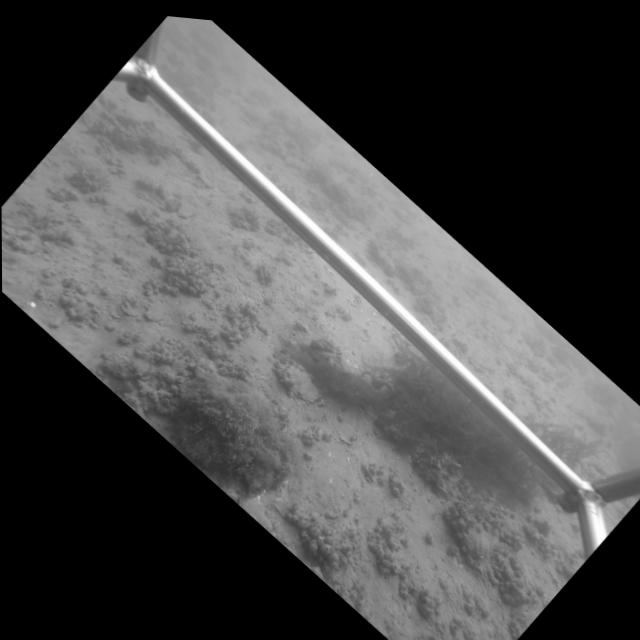Oyster-Indeterminate: (275, 358, 322, 405)
